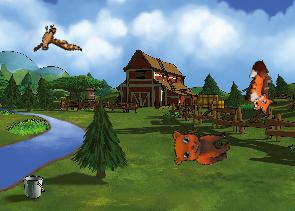bear: (167, 118, 233, 172)
eagle: (27, 17, 82, 65)
fox: (239, 59, 286, 118)
